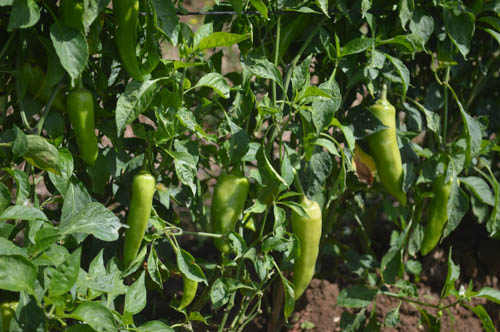ChiliPepper: (125, 175, 163, 270), (208, 175, 251, 255), (291, 203, 326, 298), (375, 104, 405, 208), (423, 178, 455, 258), (68, 93, 97, 162), (23, 66, 61, 111)
